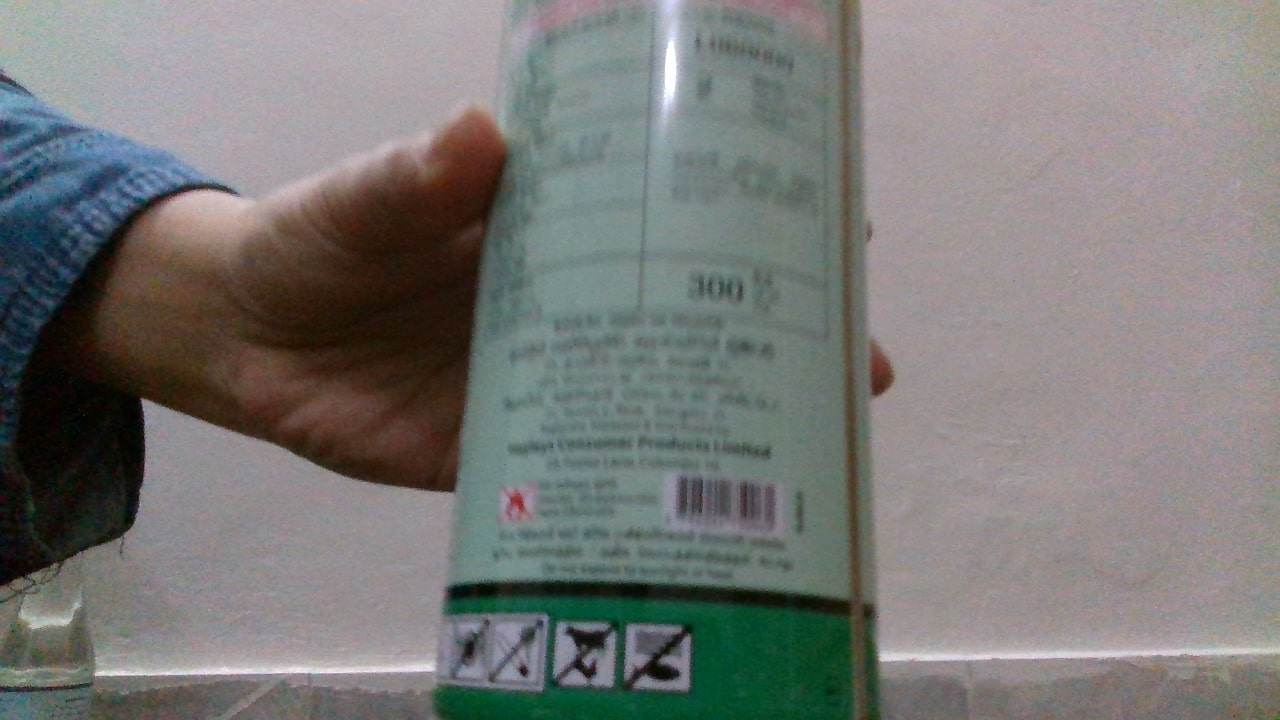Barcode: (672, 471, 782, 535)
